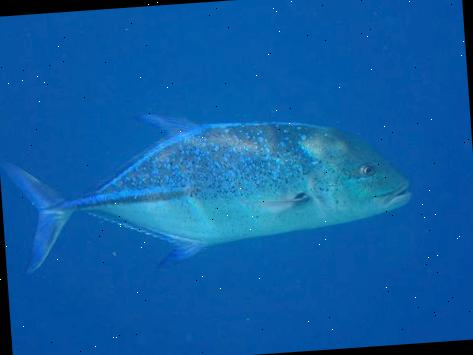fish: (0, 93, 414, 275)
